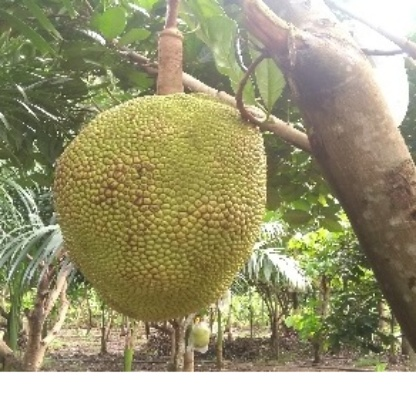mit: (55, 92, 270, 325)
